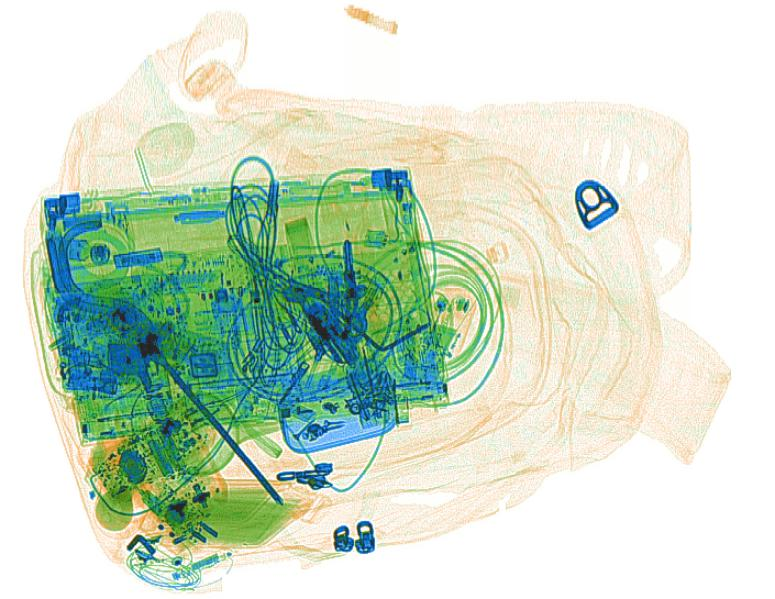battery: (145, 427, 184, 477)
